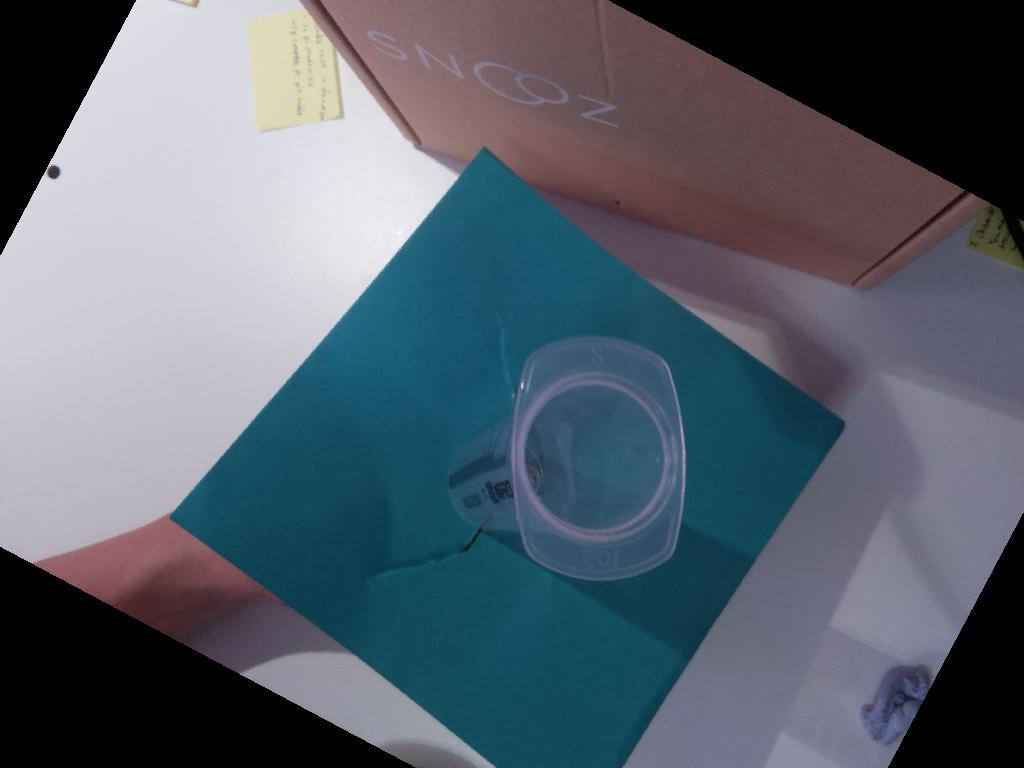clean: (510, 336, 686, 580)
